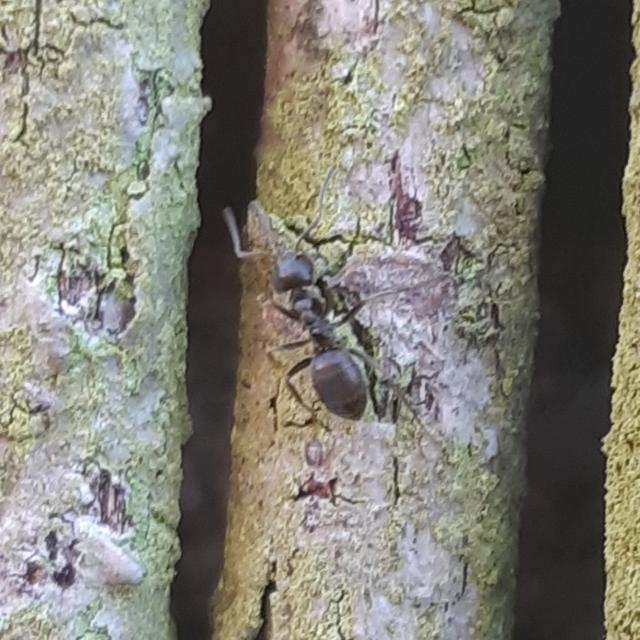Lasius: (207, 217, 456, 445)
